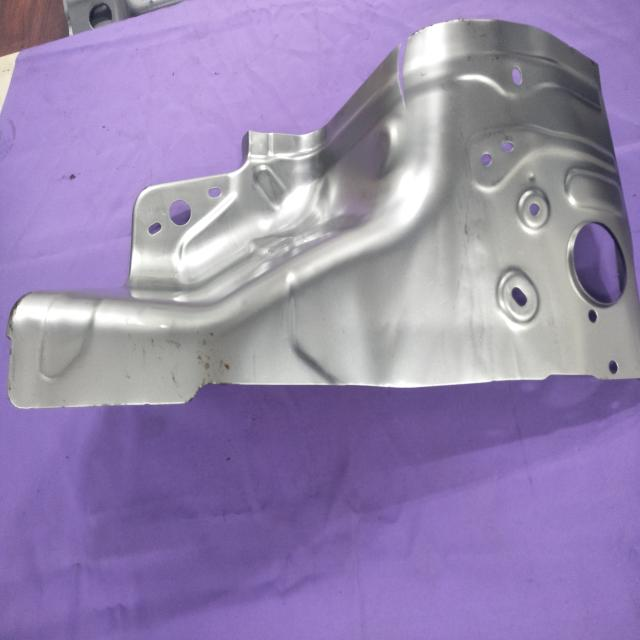Defect: (391, 36, 412, 126)
rust: (146, 317, 272, 414), (414, 18, 526, 61)
